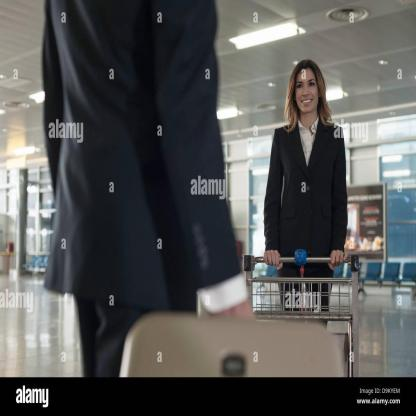airport-trolley: (239, 247, 361, 378)
